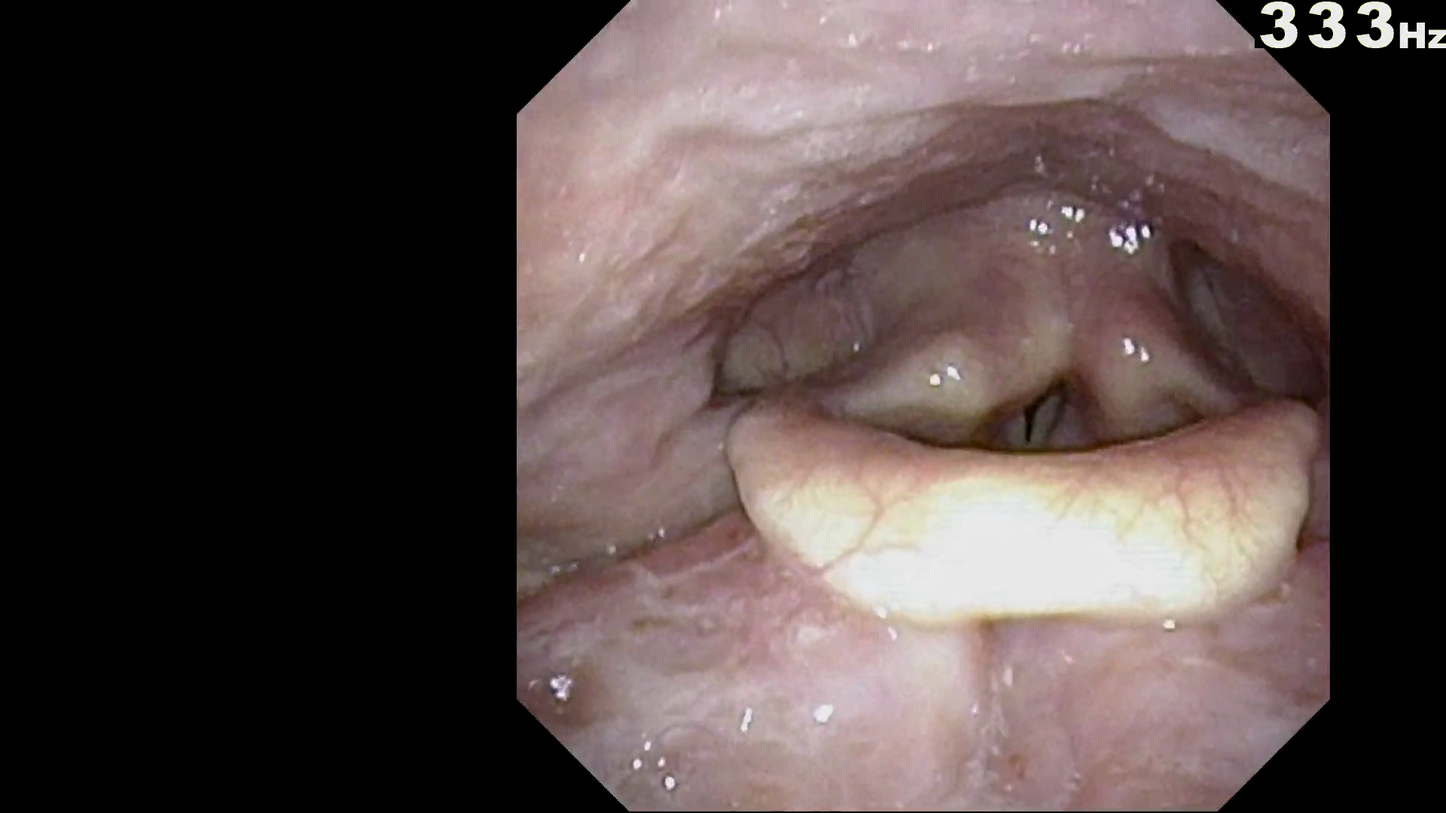epiglottis: (712, 386, 1316, 646)
trachea: (982, 372, 1078, 491)
